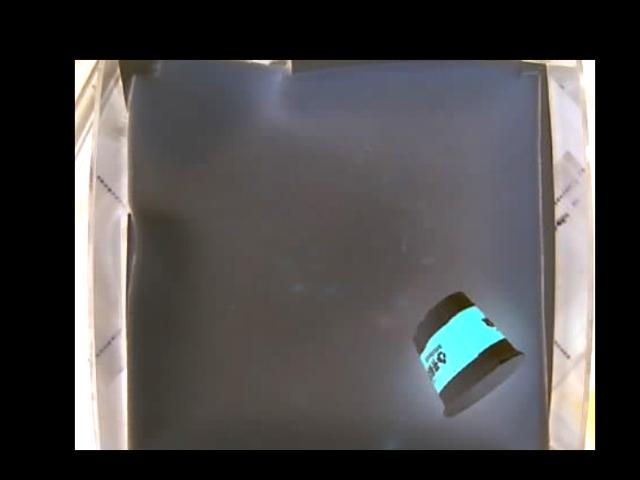Cup: (412, 289, 526, 416)
